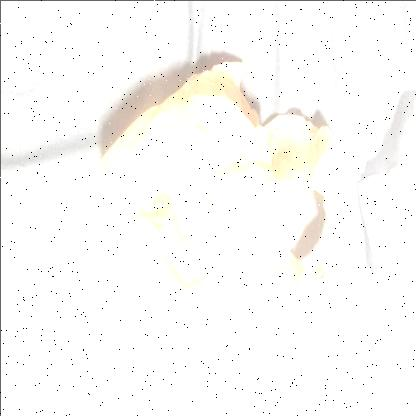Others: (83, 43, 344, 406)
